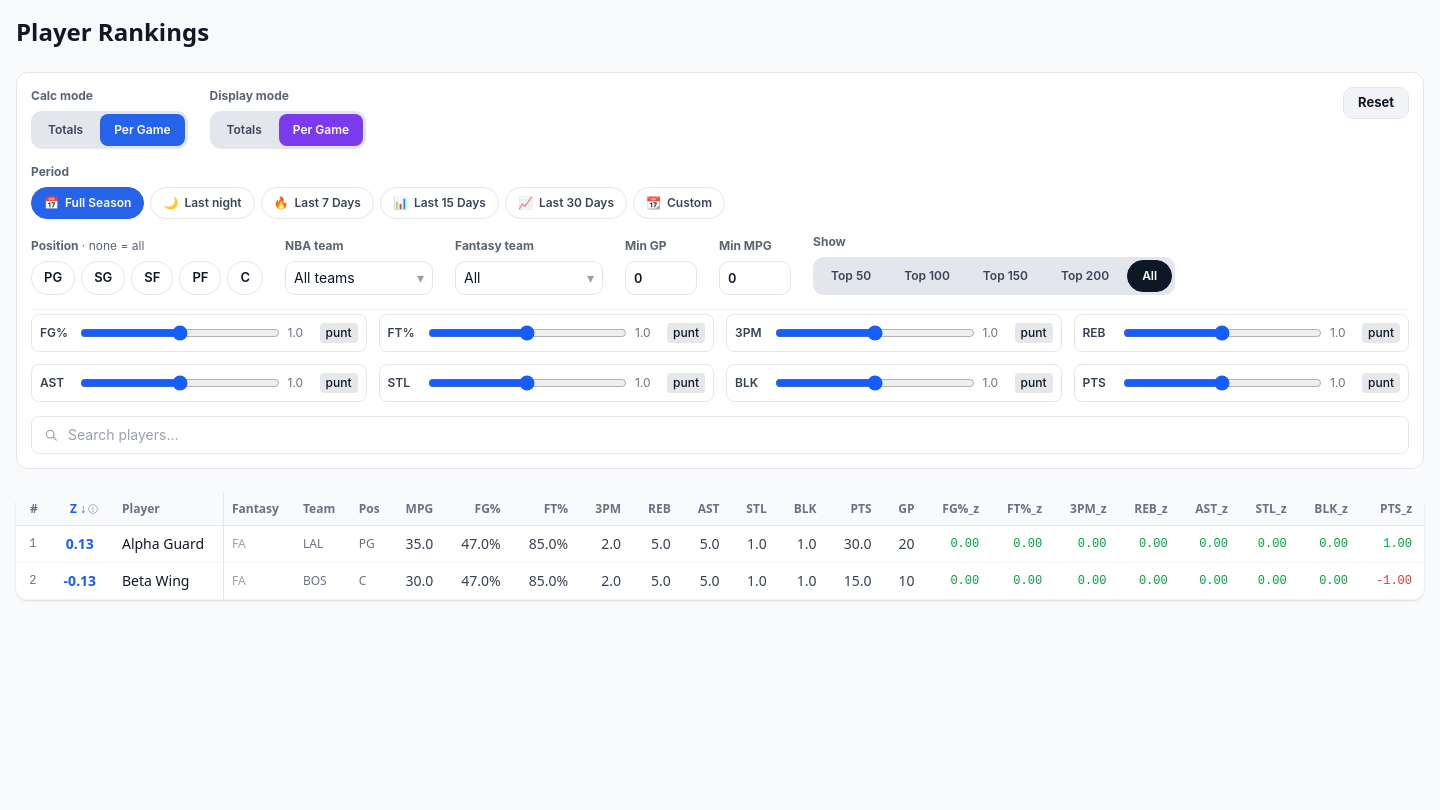
it: PlayerRankings page › keeps every selected position, and drops a position when it is toggled off
Check: the text "Beta Wing" is shown, box [122,571,190,590]
Click the button "PG".
click(53, 278)  # box [31,261,75,295]
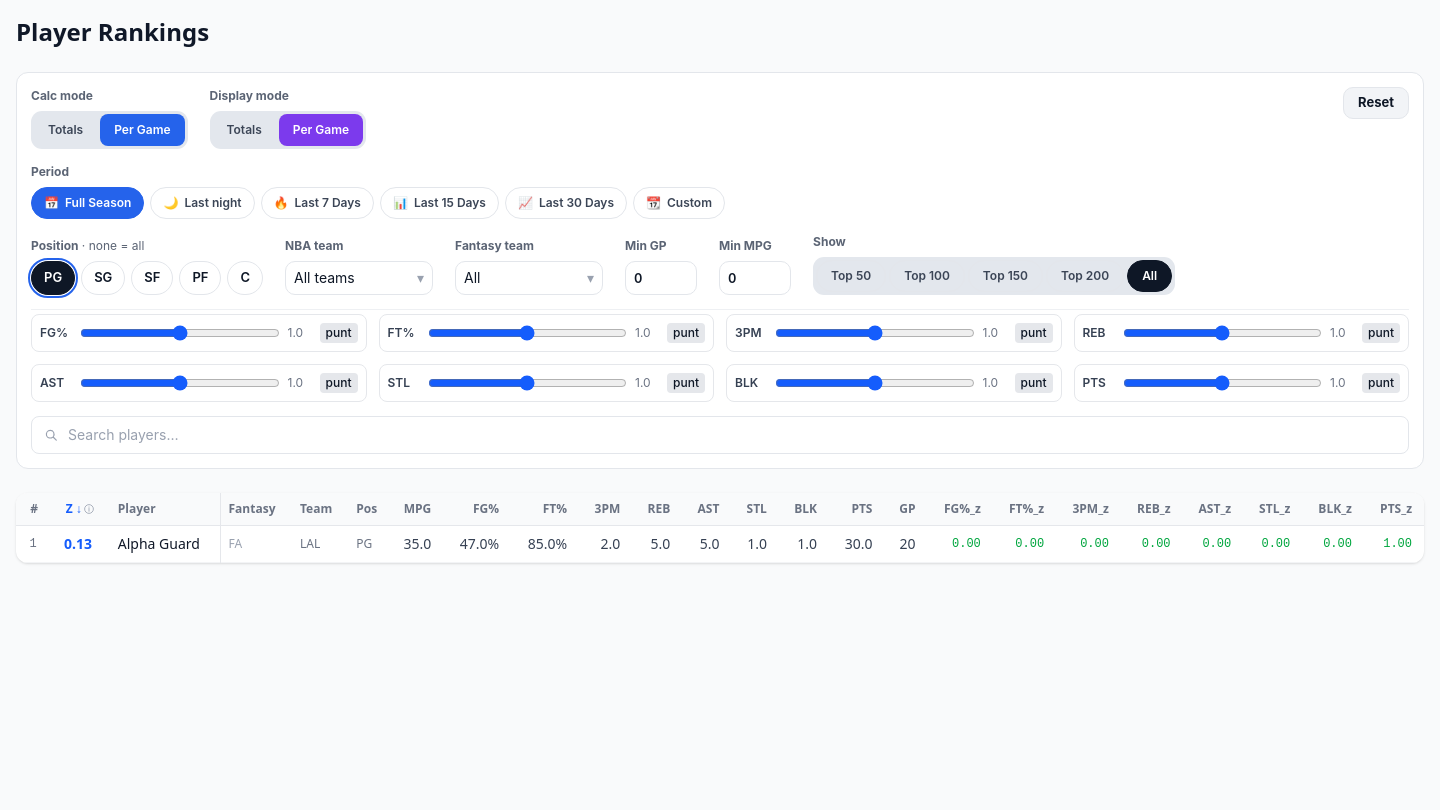
Click the button "C".
click(245, 278)  # box [228,261,263,295]
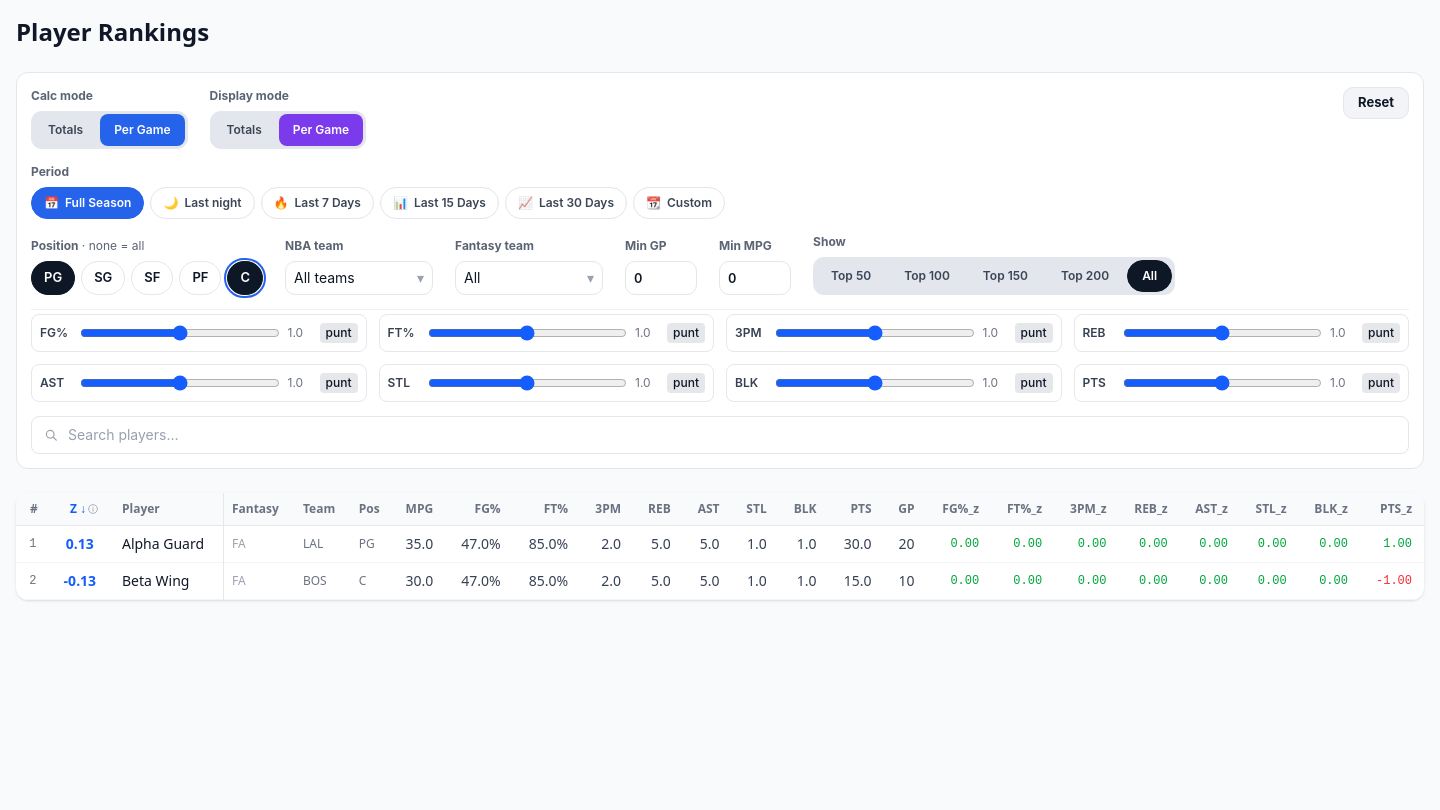
Check: the text "Alpha Guard" is shown, box [122,534,204,553]
Check: the text "Beta Wing" is shown, box [122,571,190,590]
Click the button "PG".
click(53, 278)  # box [31,261,75,295]
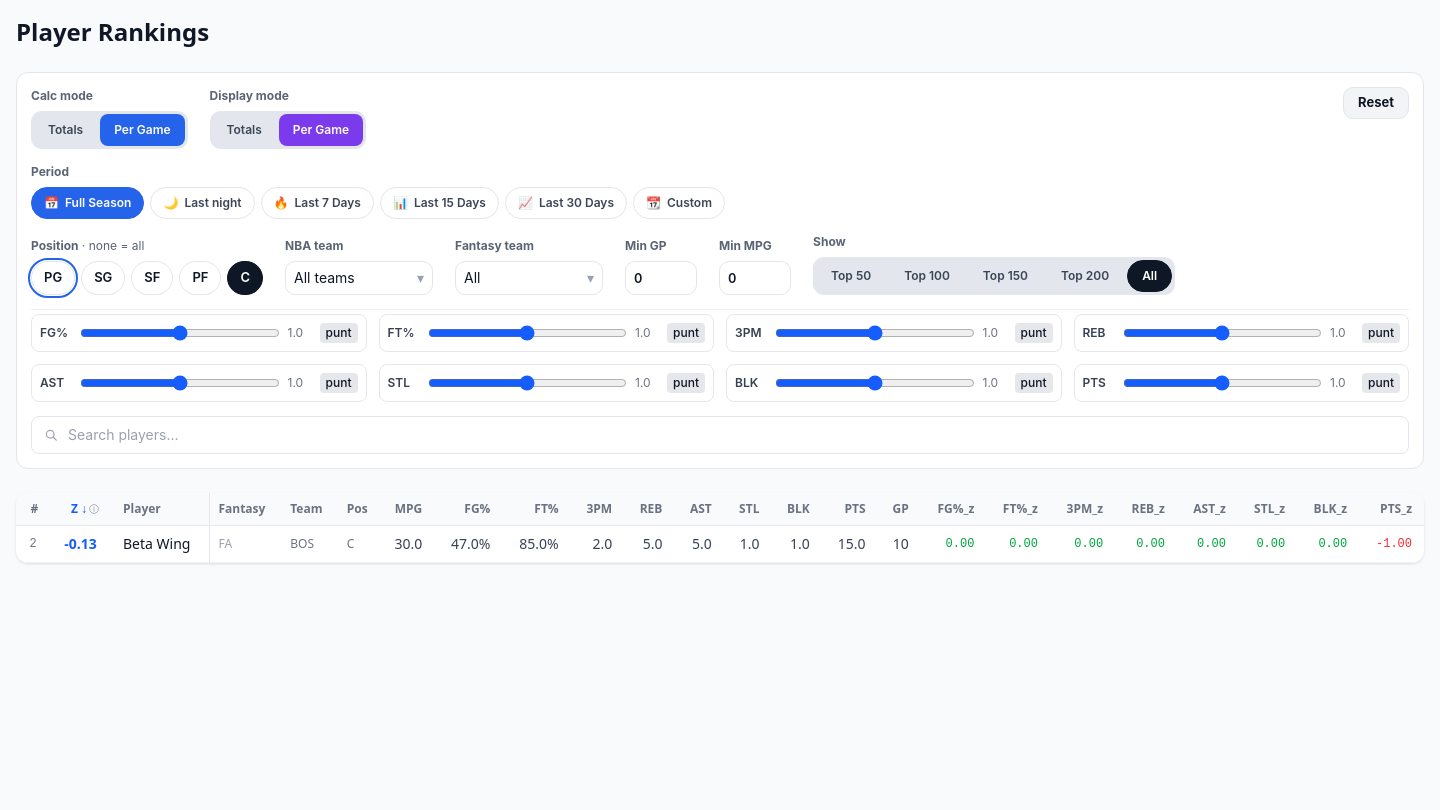
Check: the text "Beta Wing" is shown, box [123,534,190,553]
Check: the text "Alpha Guard" is gone
